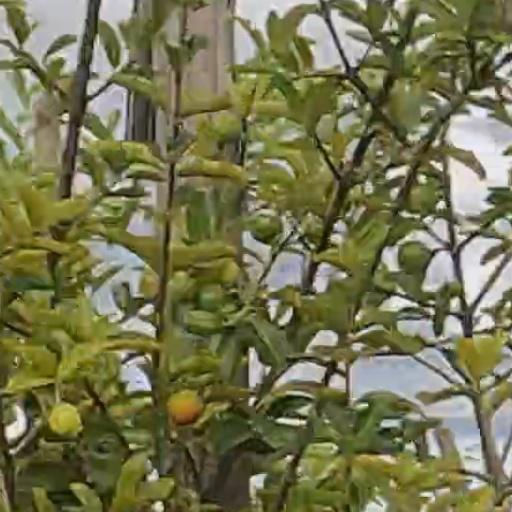acerola: (49, 404, 83, 437), (397, 240, 428, 276), (170, 394, 203, 424), (250, 217, 282, 243), (200, 288, 227, 313)
